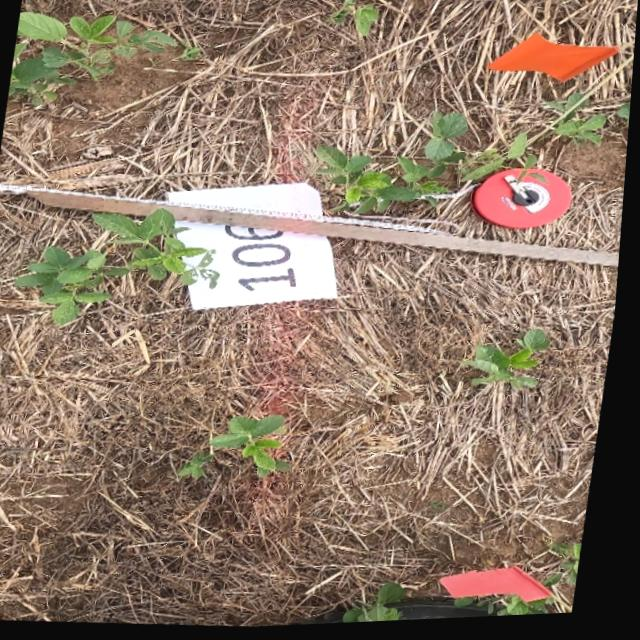soy_plant: (20, 210, 223, 324), (319, 114, 539, 215), (10, 10, 179, 104), (469, 332, 554, 392), (217, 417, 298, 478), (547, 97, 608, 149), (351, 585, 414, 626), (463, 599, 557, 621), (331, 0, 378, 37), (563, 547, 590, 589), (185, 454, 219, 479), (619, 108, 632, 131)
